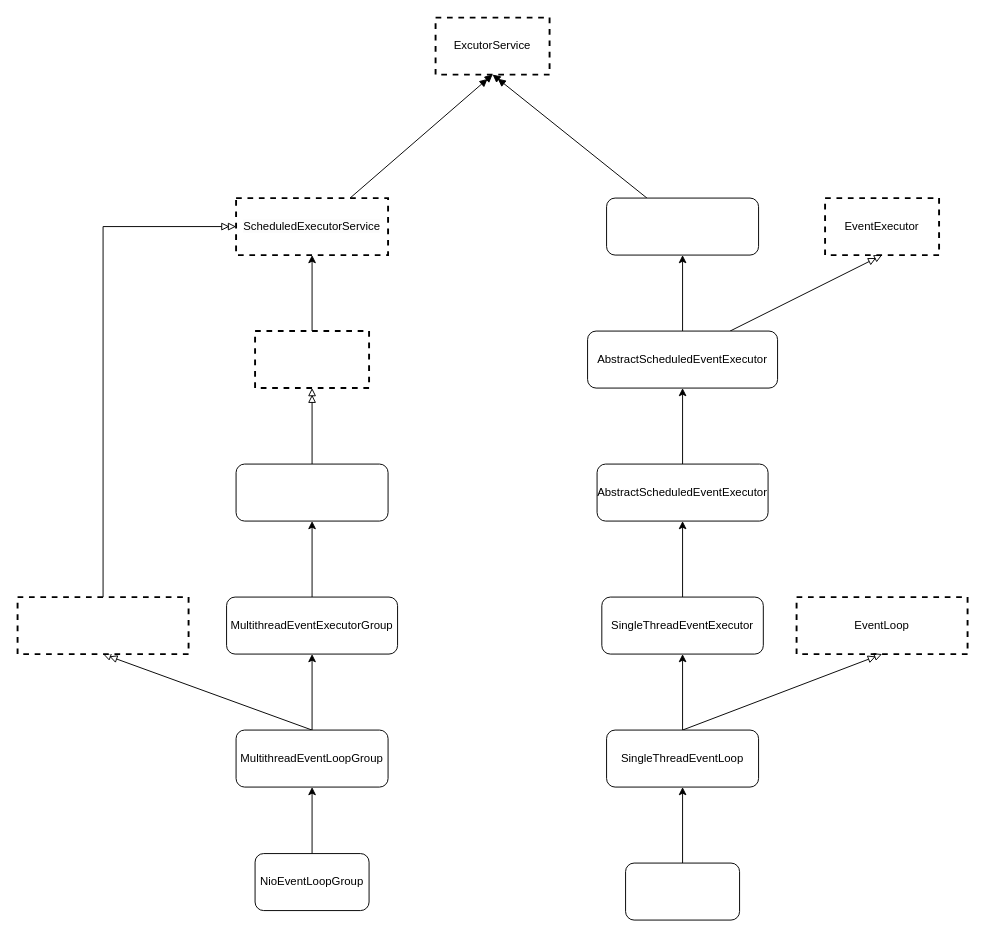
This 984x937 diagram has some shape labels left out. The box of each missing label's shape, as (x1, y1, x2, y2) in pixels:
AbstractEventExectorGroup: (235, 463, 388, 521)
AbstractExecutorService: (606, 197, 759, 255)
EventExecutorGroup: (254, 330, 370, 389)
EventLoopGroup: (16, 596, 189, 655)
NioEventLoop: (625, 862, 740, 920)
